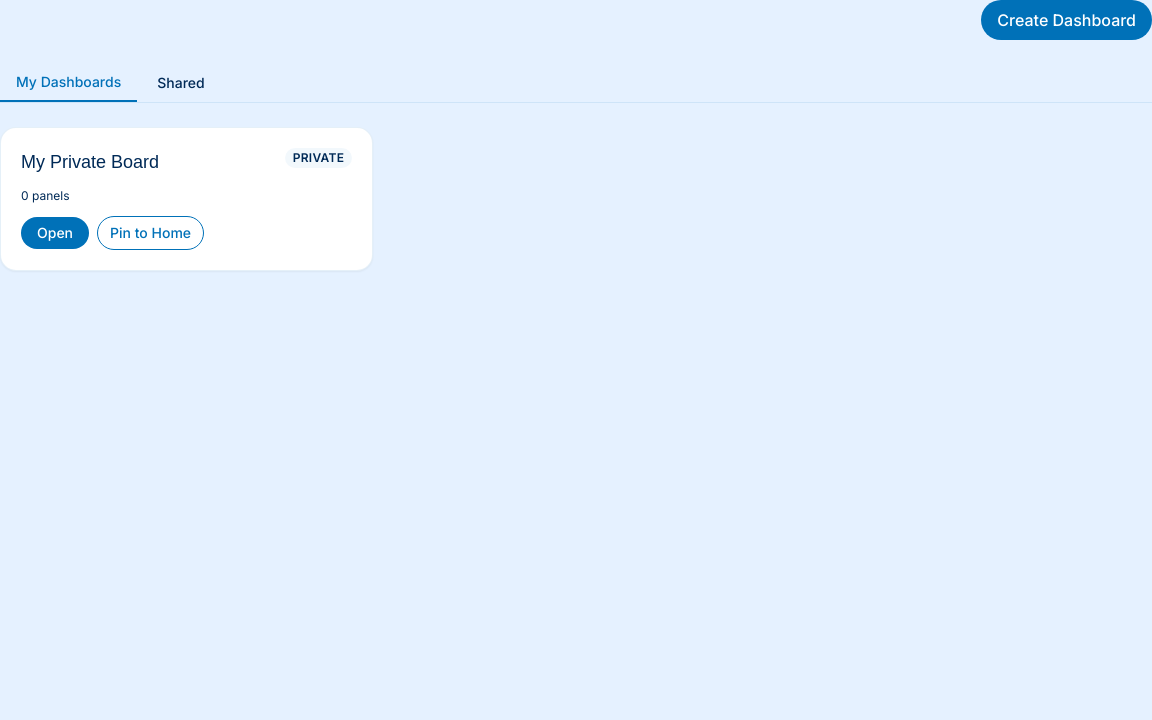
it: DashboardsPage › opens the Create Dashboard modal on button click
expect the heading "My Private Board" is shown: met, box [21,148,159,176]
Step 1. Click the button "Create Dashboard" → point(1067, 20), box [981,0,1151,40]
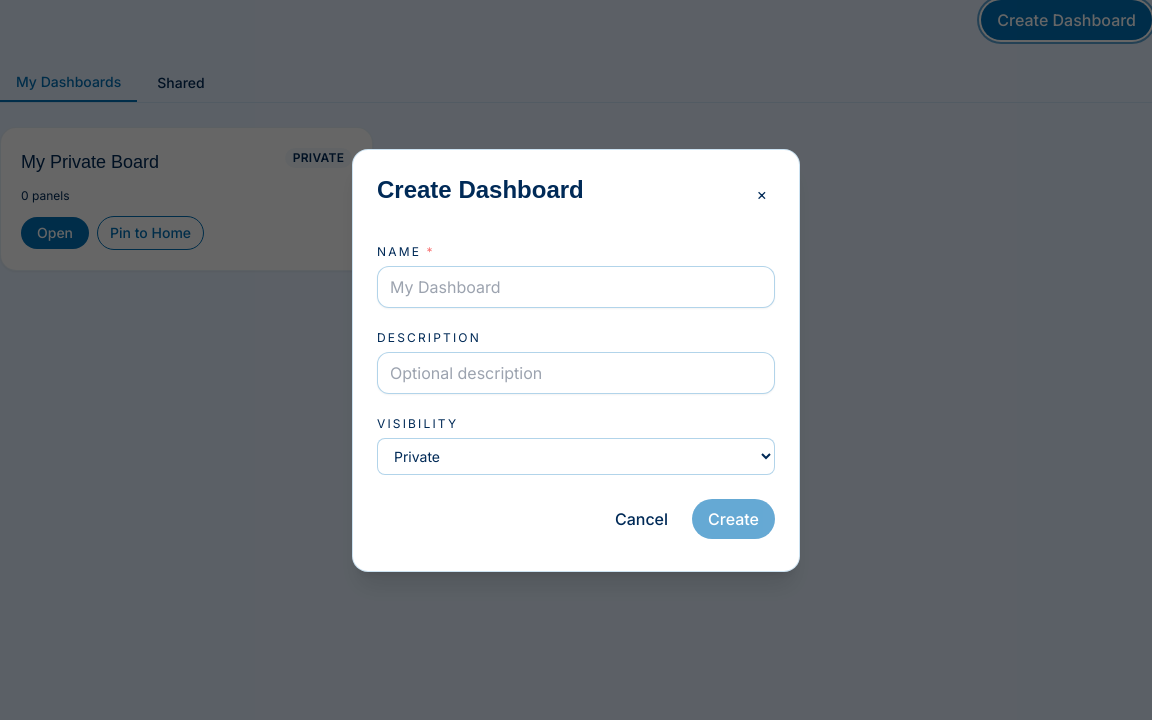
expect the field with placeholder "My Dashboard" is shown: met, box [377,266,775,308]
